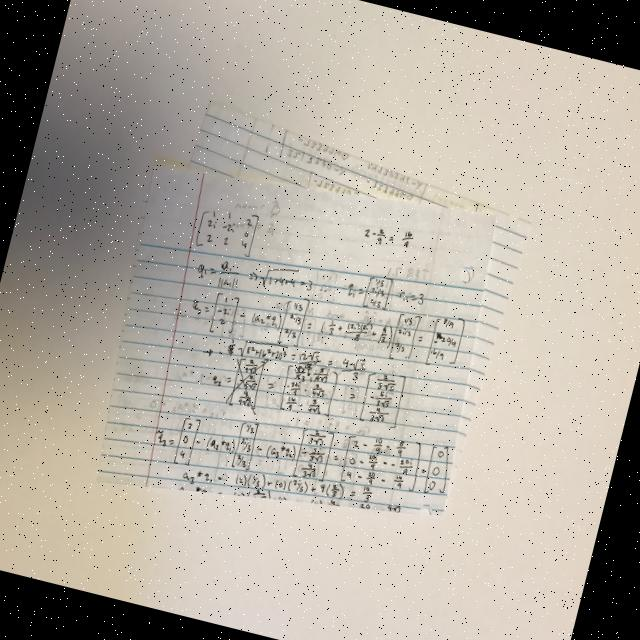paper: (74, 90, 542, 568)
